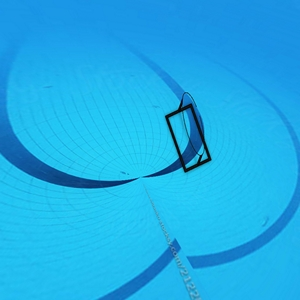circle: (165, 90, 216, 176)
